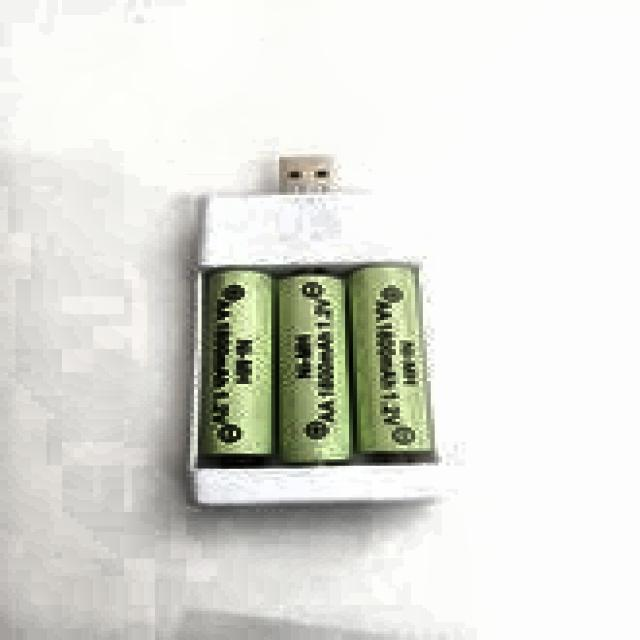Non-Valuable Waste - Batteries: (348, 266, 433, 456), (200, 269, 275, 459), (278, 272, 352, 463)
